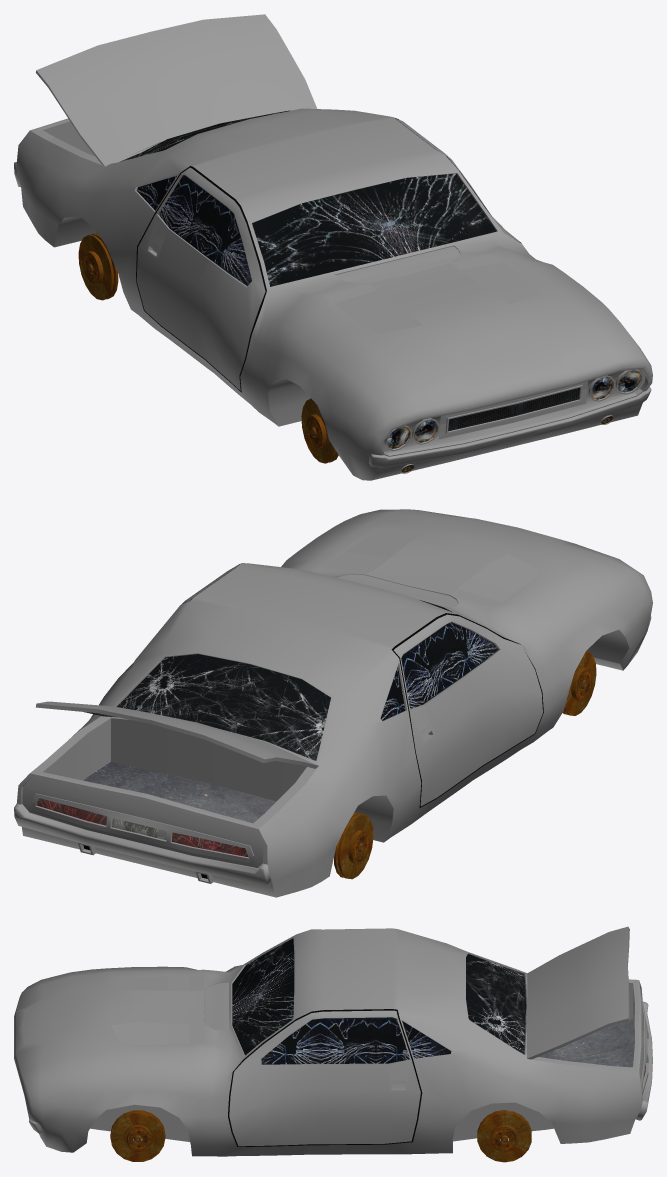
The model's file is Static_Car_Trunk_Open.FBX.
The picture shows the model from 3 angles, top to bottom: view 1: azimuth 30°, elevation 25°; view 2: azimuth 150°, elevation 25°; view 3: azimuth 270°, elevation 25°; orthographic projection. The views are drawn at different scales.
Parts seen in each view (by area): view 1: Static_Car_trunk_open; view 2: Static_Car_trunk_open; view 3: Static_Car_trunk_open.
Boxes of the visible parts, left/top/right/bottom form: Static_Car_trunk_open: left=14, top=14, right=652, bottom=480; Static_Car_trunk_open: left=14, top=509, right=652, bottom=897; Static_Car_trunk_open: left=14, top=926, right=652, bottom=1162.
Bounding box in the file's own units: 135 × 76.56 × 300.
